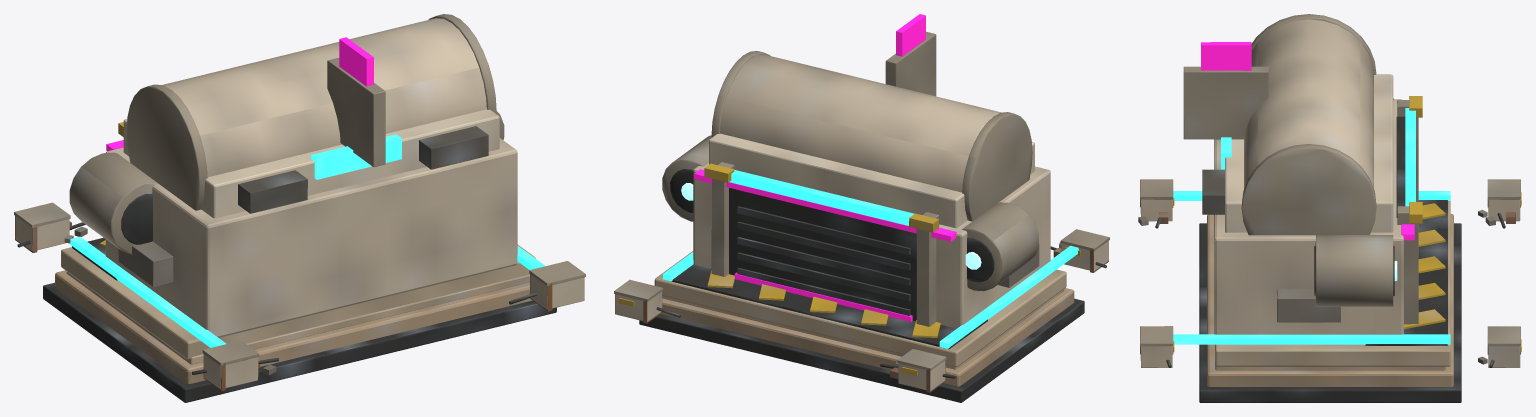
The model's file is hightech.glb.
3 views of the same model, side by side, from view 1: azimuth 30°, elevation 25°; view 2: azimuth 150°, elevation 25°; view 3: azimuth 270°, elevation 25° (orthographic). The views are drawn at different scales.
Visible parts, largest first — view 1: Sandwar3D; view 2: Sandwar3D; view 3: Sandwar3D.
Part boxes in pixels (<box>): Sandwar3D: <box>14,14,585,402</box>; Sandwar3D: <box>614,14,1109,402</box>; Sandwar3D: <box>1138,14,1521,402</box>.
Bounding box in the file's own units: 3.13 × 2.28 × 2.87.
Materials: 14 (13 with a texture image).
